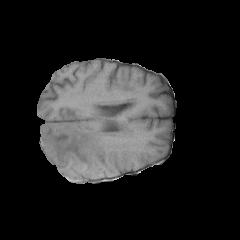glioma: (40, 122, 131, 176)
